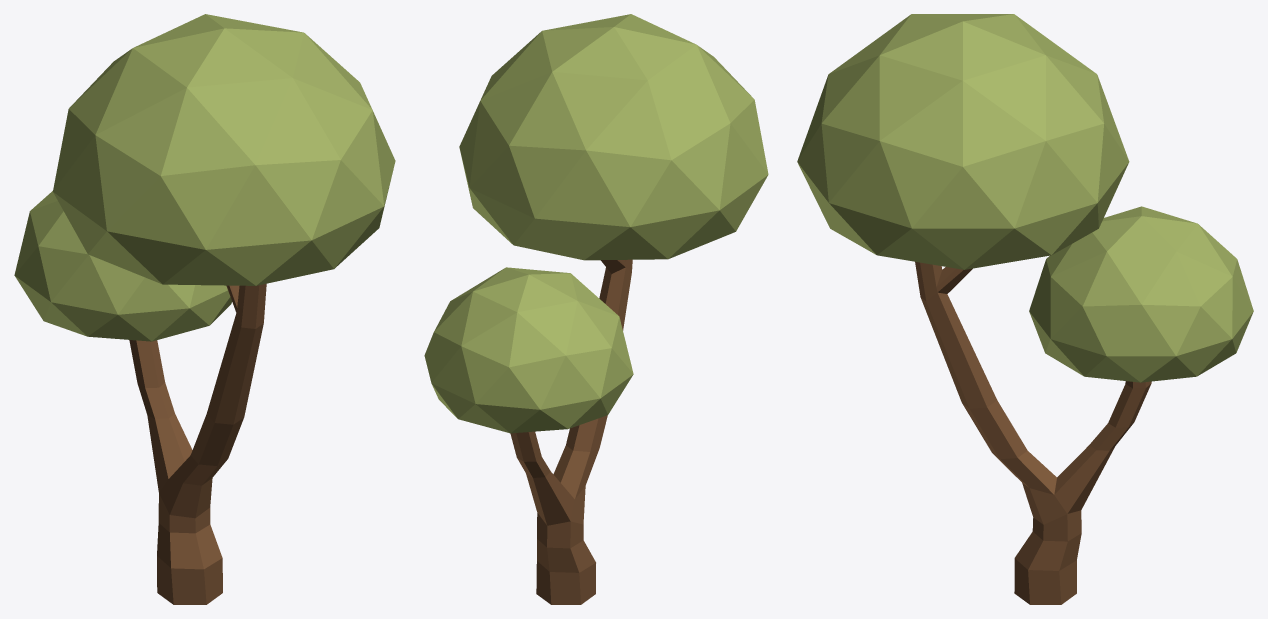
The model's file is tree_q1.glb.
3 renders of one model, left to right at view 1: azimuth 30°, elevation 25°; view 2: azimuth 150°, elevation 25°; view 3: azimuth 270°, elevation 25°, orthographic. The views are drawn at different scales.
Visible parts, largest first — view 1: Tree1_Icosphere.002; view 2: Tree1_Icosphere.002; view 3: Tree1_Icosphere.002.
Boxes of the visible parts, x1,y1,x2,y2 form: Tree1_Icosphere.002: [14, 14, 395, 604]; Tree1_Icosphere.002: [424, 14, 768, 604]; Tree1_Icosphere.002: [797, 14, 1253, 604].
Size of the model in its own units: 2.02 by 4 by 2.92.
